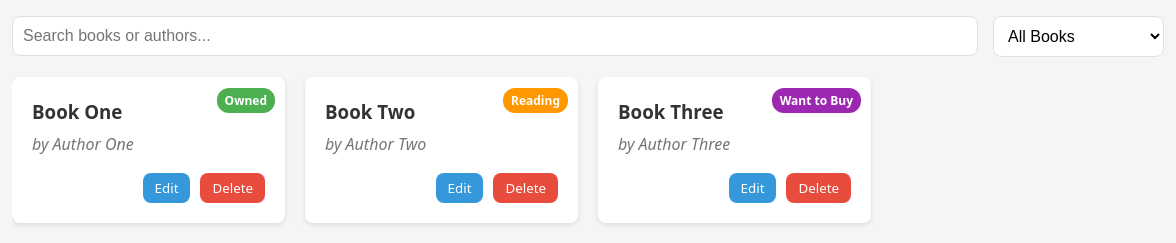
Test: BookList Component › filters books based on search term
The width and height of the screenshot is (1176, 243).
Type "Book Two" into the field with placeholder "Search books or authors..." at (495, 36), box x1=12 y1=16 x2=978 y2=56
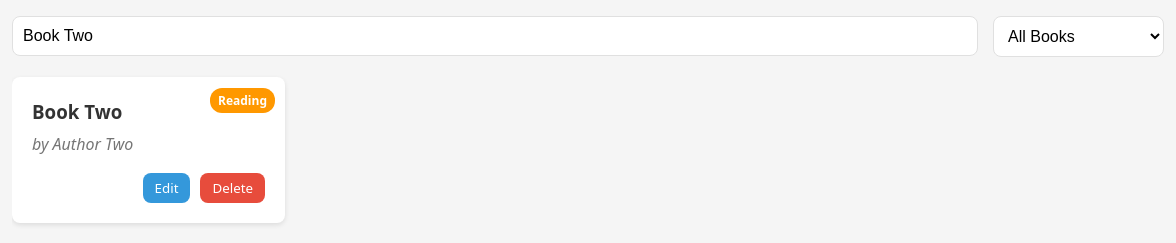
Expected: the heading "Book Two" is shown, x1=32 y1=99 x2=122 y2=124
Now the heading "Book One" is gone
